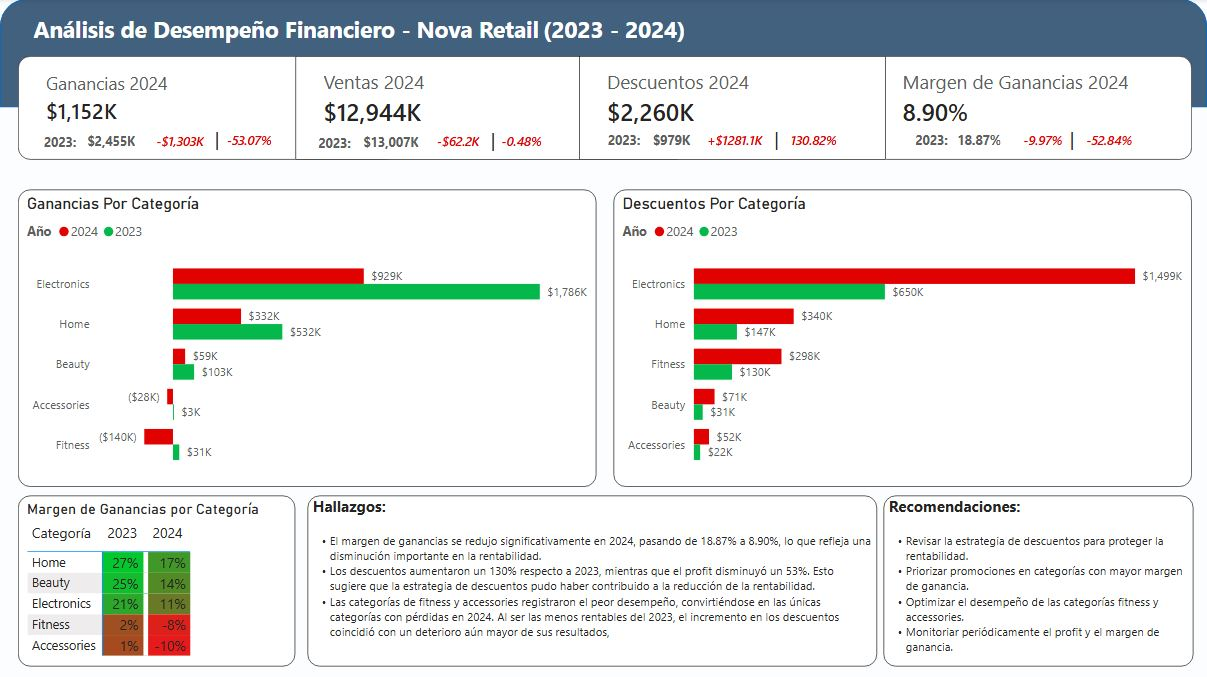

What the dashboard file says about the page in this screenshot:
{"tool":"powerbi","page":{"name":"Página 1","canvas":[1280,720],"ordinal":0},"visuals":[{"type":"shape","box":[0,0,1280,115],"z":0},{"type":"cardVisual","fields":{"Data":["orders.Profit CY"]},"box":[18.3,60,403.3,110],"z":1000},{"type":"cardVisual","fields":{"Data":["orders.Profit LY"]},"box":[63.3,122,160,53.3],"z":2000},{"type":"textbox","box":[41.2,136,57.5,41.2],"z":3000},{"type":"cardVisual","fields":{"Data":["orders.Profit Difference"]},"box":[136.7,124,120,50],"z":4000},{"type":"cardVisual","fields":{"Data":["orders.Profit %YoY"]},"box":[212.2,123,120,51.7],"z":5000},{"type":"textbox","box":[223.2,130.1,48,44],"z":6000},{"type":"cardVisual","fields":{"Data":["orders.Revenue CY"]},"box":[313.3,60,405,110],"z":7000},{"type":"cardVisual","fields":{"Data":["orders.Revenue LY"]},"box":[356,129,160,48.3],"z":8000},{"type":"textbox","box":[332.5,138,65,43.8],"z":9000},{"type":"cardVisual","fields":{"Data":["orders.Revenue Diff"]},"box":[433.8,124,121.4,51.4],"z":10000},{"type":"cardVisual","fields":{"Data":["orders.Revenue %Diff"]},"box":[502.1,124,121.4,51.4],"z":11000},{"type":"textbox","box":[515,132,48.3,45],"z":12000},{"type":"cardVisual","fields":{"Data":["orders.Profit Margin CY"]},"box":[926.7,60,336.7,110],"z":13000},{"type":"cardVisual","fields":{"Data":["orders.Discounts CY"]},"box":[613.3,60,325,110],"z":14000},{"type":"cardVisual","fields":{"Data":["orders.Profit Margin LY"]},"box":[986.2,115,121.2,67.5],"z":15000},{"type":"cardVisual","fields":{"Data":["orders.Discounts LY"]},"box":[662.9,123,160,51.4],"z":16000},{"type":"cardVisual","fields":{"Data":["orders.Discounts diff"]},"box":[719.9,106,145.6,84.4],"z":17000},{"type":"cardVisual","fields":{"Data":["orders.Discounts %YoY"]},"box":[809,123,121.4,51.4],"z":18000},{"type":"textbox","box":[640,135,60,46.2],"z":19000},{"type":"textbox","box":[816.7,130,48.3,43.3],"z":20000},{"type":"textbox","box":[966.2,135,53.8,41.2],"z":21000},{"type":"cardVisual","fields":{"Data":["orders.Profit Margin Diff"]},"box":[1056.2,117,122.5,61.2],"z":22000},{"type":"cardVisual","fields":{"Data":["orders.Profit Margin %YoY"]},"box":[1123,122,121,51],"z":23000},{"type":"textbox","box":[1130,130,48.8,45],"z":24000},{"type":"clusteredBarChart","title":"Ganancias Por Categoría","fields":{"Y":["Sum(orders.profit)"],"Category":["products.category"],"Series":["Calendar.Year"]},"box":[18.3,201.7,613.3,315],"z":25000},{"type":"clusteredBarChart","title":"Descuentos Por Categoría","fields":{"Category":["products.category"],"Series":["Calendar.Year"],"Y":["orders.Discounts"]},"box":[650,202.5,613,315],"z":26000},{"type":"textbox","box":[30,10,762,46],"z":27000},{"type":"textbox","box":[325.7,527.1,604.3,181.4],"z":28000},{"type":"textbox","box":[937.1,527.1,328.6,181.4],"z":29000},{"type":"pivotTable","title":"Margen de Ganancias por Categoría","fields":{"Rows":["products.category"],"Values":["orders.Margin Profit"],"Columns":["Calendar.Year"]},"box":[18.6,527.1,294.3,181.4],"z":30000}]}

Visuals, with their boxes in screenshot pixels (x1, y1, x2, y2), scaled from the page's 1280x720 canvas onto the 1207x677 screenshot:
shape: [0, 0, 1206, 108]
cardVisual - orders.Profit CY: [17, 56, 398, 160]
cardVisual - orders.Profit LY: [60, 115, 211, 165]
textbox: [39, 128, 93, 167]
cardVisual - orders.Profit Difference: [129, 117, 242, 164]
cardVisual - orders.Profit %YoY: [200, 116, 313, 164]
textbox: [210, 122, 256, 164]
cardVisual - orders.Revenue CY: [295, 56, 677, 160]
cardVisual - orders.Revenue LY: [336, 121, 487, 167]
textbox: [314, 130, 375, 171]
cardVisual - orders.Revenue Diff: [409, 117, 524, 165]
cardVisual - orders.Revenue %Diff: [473, 117, 588, 165]
textbox: [486, 124, 531, 166]
cardVisual - orders.Profit Margin CY: [874, 56, 1191, 160]
cardVisual - orders.Discounts CY: [578, 56, 885, 160]
cardVisual - orders.Profit Margin LY: [930, 108, 1044, 172]
cardVisual - orders.Discounts LY: [625, 116, 776, 164]
cardVisual - orders.Discounts diff: [679, 100, 816, 179]
cardVisual - orders.Discounts %YoY: [763, 116, 877, 164]
textbox: [604, 127, 660, 170]
textbox: [770, 122, 816, 163]
textbox: [911, 127, 962, 166]
cardVisual - orders.Profit Margin Diff: [996, 110, 1111, 168]
cardVisual - orders.Profit Margin %YoY: [1059, 115, 1173, 163]
textbox: [1066, 122, 1112, 165]
"Ganancias Por Categoría" clusteredBarChart: [17, 190, 596, 486]
"Descuentos Por Categoría" clusteredBarChart: [613, 190, 1191, 487]
textbox: [28, 9, 747, 53]
textbox: [307, 496, 877, 666]
textbox: [884, 496, 1194, 666]
"Margen de Ganancias por Categoría" pivotTable: [18, 496, 295, 666]
